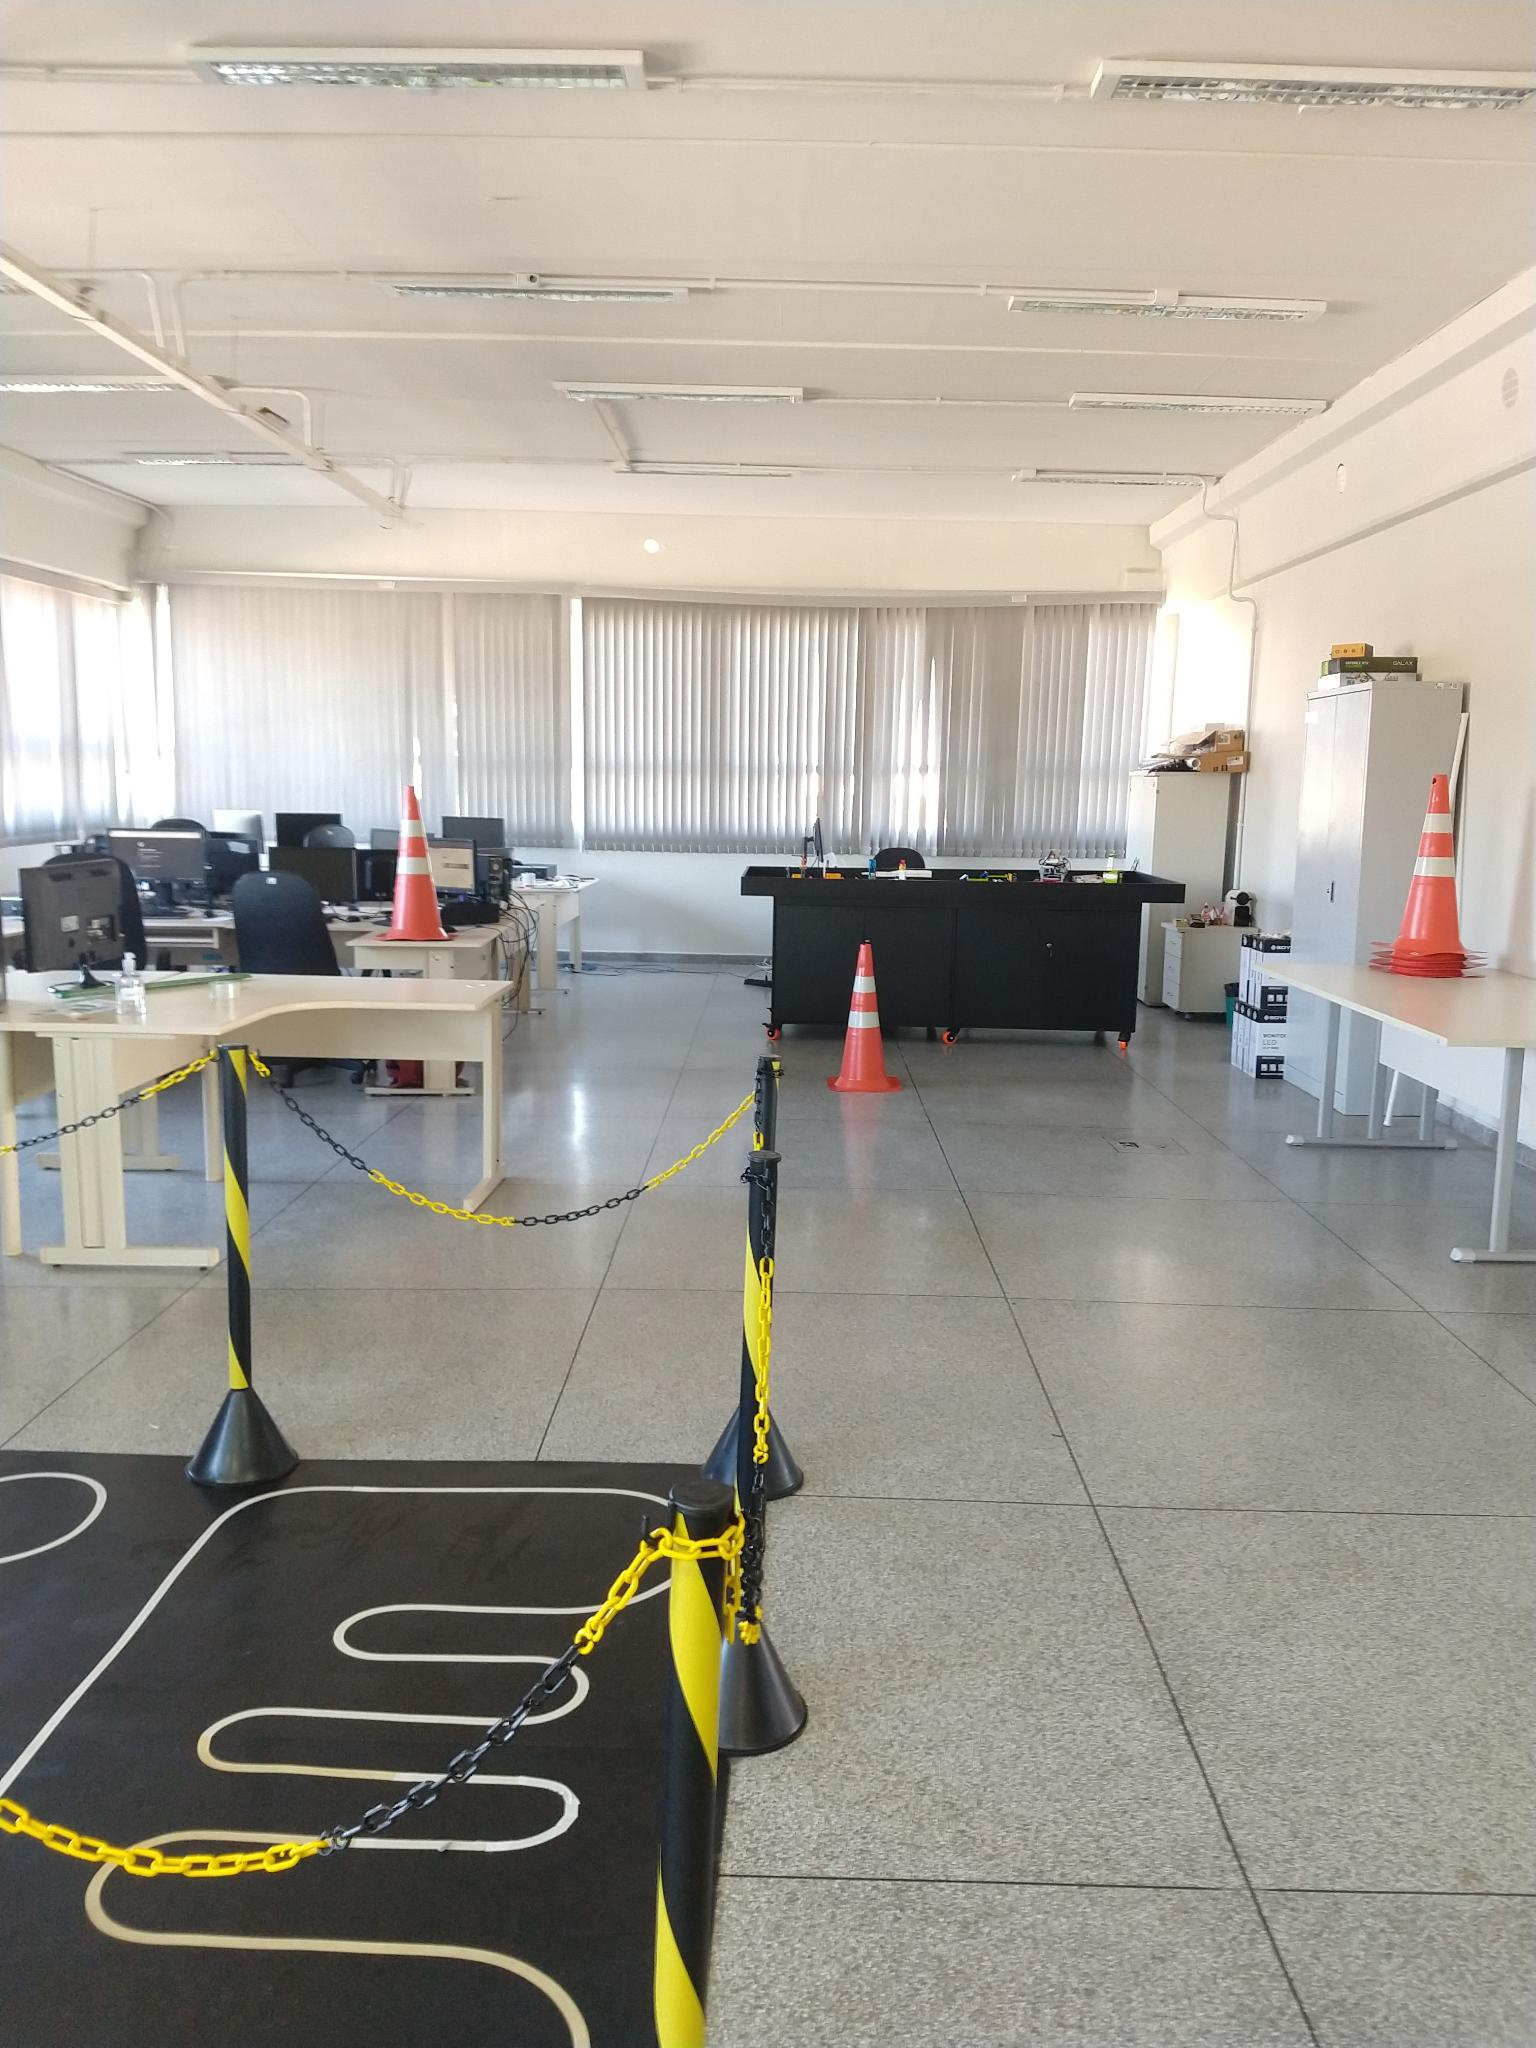traffic cone: (184, 1150, 300, 1487), (1375, 771, 1489, 979), (376, 787, 455, 942), (828, 942, 902, 1093)
